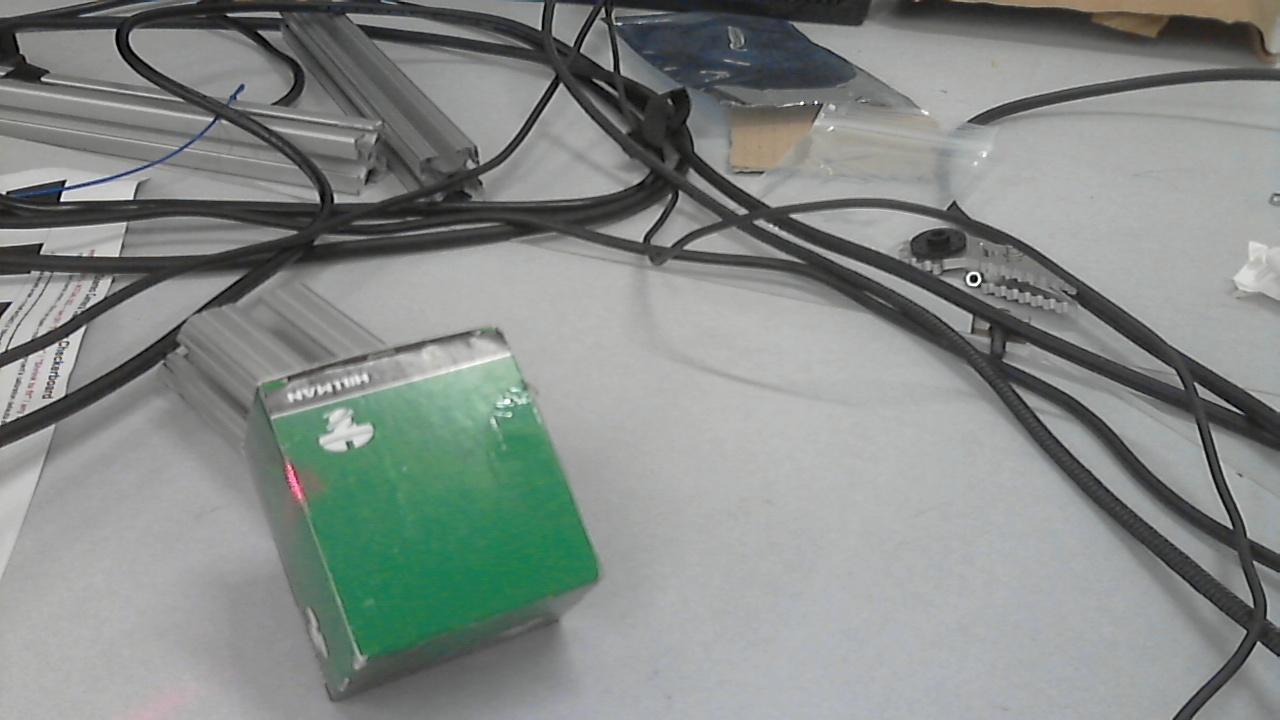Object screw packaging box - Material cardboard - Pdfname VgpKnmoKJfrS: (254, 447, 363, 538)
